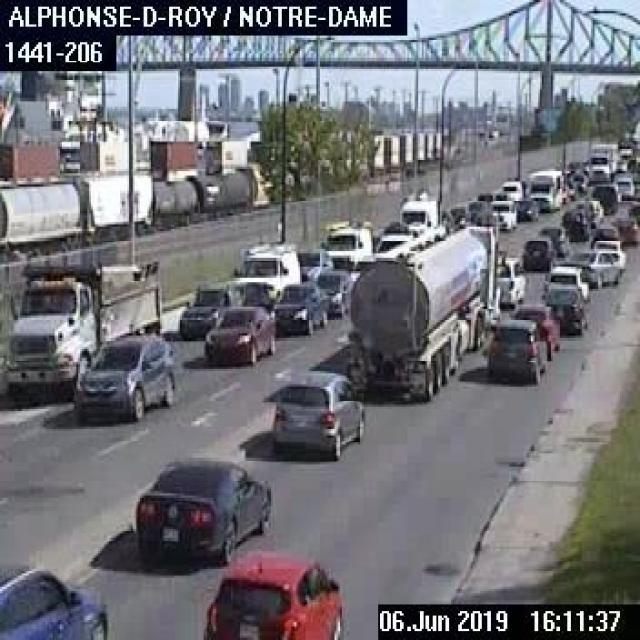bus: (526, 165, 561, 208)
vehicle: (348, 224, 502, 396), (0, 258, 165, 398), (132, 452, 278, 569), (203, 552, 347, 638), (70, 331, 173, 419), (268, 368, 365, 460), (0, 558, 109, 638), (200, 302, 276, 368), (228, 241, 302, 308), (490, 310, 546, 386), (175, 280, 242, 338), (269, 278, 327, 335), (316, 217, 373, 270), (512, 304, 560, 362), (542, 278, 589, 336), (567, 248, 622, 286), (311, 266, 349, 314), (397, 185, 438, 229), (546, 263, 591, 303), (497, 256, 526, 308), (292, 243, 332, 280), (586, 139, 614, 183), (488, 196, 520, 232), (522, 234, 553, 270), (589, 235, 628, 263), (441, 203, 470, 232), (560, 208, 589, 237), (538, 226, 568, 254), (588, 224, 621, 248), (592, 182, 618, 212), (374, 231, 411, 252), (611, 215, 638, 243), (576, 197, 602, 226), (464, 198, 491, 225), (515, 195, 537, 221), (498, 176, 522, 199), (613, 173, 632, 198), (566, 172, 586, 192)
